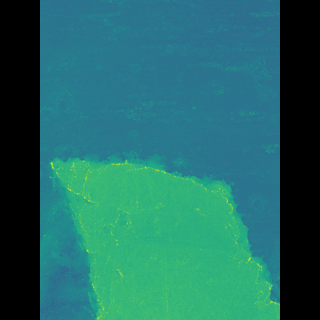Loch: (69, 136, 250, 320)
